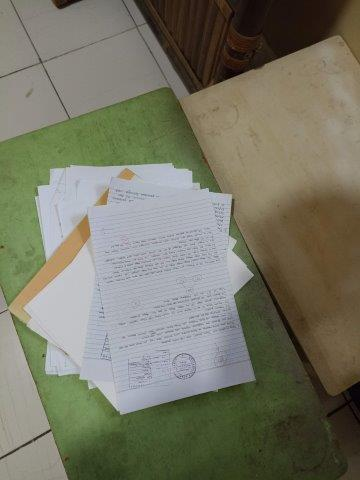kertas: (8, 163, 254, 413)
